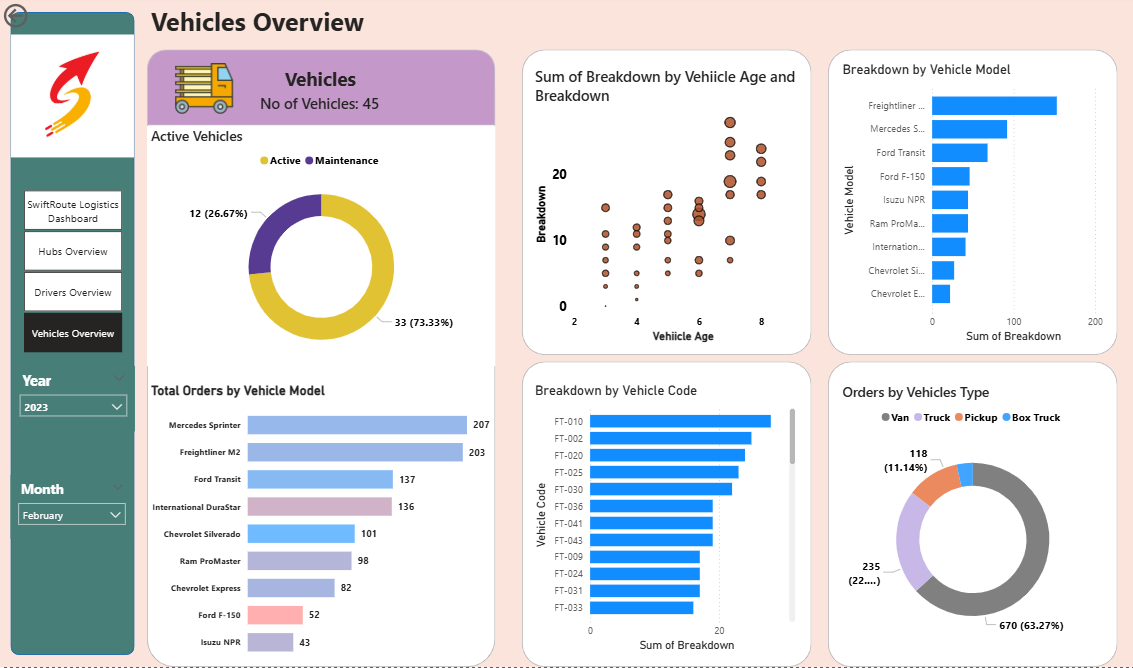

Layout of this report page (visuals, bound fields, positions):
{"tool":"powerbi","page":{"name":"Vehicles Overview","canvas":[1450,850],"ordinal":3},"visuals":[{"type":"shape","box":[13.6,15.3,158.1,819.4],"z":0},{"type":"textbox","box":[187,0,504.9,62.9],"z":1000},{"type":"slicer","fields":{"Values":["Date Table.Year"]},"box":[15.3,465.8,156.4,83.3],"z":2000},{"type":"slicer","fields":{"Values":["Date Table.Month"]},"box":[13.6,606.9,156.4,79.9],"z":3000},{"type":"image","box":[13.3,43.3,158.3,156.7],"z":4000},{"type":"shape","box":[664.7,62.9,368.9,389.3],"z":5000},{"type":"actionButton","box":[0,0,100,40],"z":6000},{"type":"shape","box":[187,78.2,443.7,771.8],"z":7000},{"type":"shape","box":[187,62.9,443.7,96.9],"z":8000},{"type":"cardVisual","fields":{"Data":["Vehicles.No of Vehicles"]},"box":[265.2,98.6,283.9,61.2],"z":9000},{"type":"textbox","box":[285.6,78.2,246.5,44.2],"z":10000},{"type":"donutChart","title":"Active Vehicles","fields":{"Category":["Vehicles.Vehicle Status"],"Y":["CountNonNull(Vehicles.Vehicle ID)"]},"box":[187,159.8,443.7,306],"z":11000},{"type":"barChart","fields":{"Y":["Orders.Total Orders"],"Category":["Vehicles.Vehicle Model"]},"box":[187,487.9,443.7,362.1],"z":12000},{"type":"scatterChart","fields":{"X":["Vehicles.Vehiicle Age"],"Y":["Vehicles.Breakdown"],"Size":["Sum(Vehicles.Breakdown)1"]},"box":[676.6,83.3,341.7,357],"z":13000},{"type":"shape","box":[1055.7,62.9,368.9,389.3],"z":14000},{"type":"shape","box":[664.7,460.7,368.9,389.3],"z":15000},{"type":"shape","box":[1055.7,460.7,368.9,389.3],"z":16000},{"type":"barChart","title":"Breakdown by Vehicle Code","fields":{"Category":["Vehicles.Vehicle Code"],"Y":["Sum(Vehicles.Breakdown)"]},"box":[676.6,487.9,341.7,346.8],"z":17000},{"type":"barChart","title":"Breakdown by Vehicle Model","fields":{"Y":["Sum(Vehicles.Breakdown)"],"Category":["Vehicles.Vehicle Model"]},"box":[1069.3,78.2,341.7,362.1],"z":18000},{"type":"donutChart","title":"Orders by Vehicles Type","fields":{"Category":["Orders.Vehicle Type"],"Y":["Orders.Total Orders"]},"box":[1069.3,487.9,341.7,346.8],"z":19000},{"type":"pageNavigator","box":[30.6,243.1,125.8,209.1],"z":20000},{"type":"image","box":[221,64.6,76.5,95.2],"z":21000}]}

Visuals, with their boxes on the page's 1450x850 design canvas (x1, y1, x2, y2). These are canvas units, not pixel positions in the 1133x668 screenshot, which may show the page scaled, cropped or inside an application window:
shape: l=14, t=15, r=172, b=835
textbox: l=187, t=0, r=692, b=63
slicer - Date Table.Year: l=15, t=466, r=172, b=549
slicer - Date Table.Month: l=14, t=607, r=170, b=687
image: l=13, t=43, r=172, b=200
shape: l=665, t=63, r=1034, b=452
actionButton: l=0, t=0, r=100, b=40
shape: l=187, t=78, r=631, b=850
shape: l=187, t=63, r=631, b=160
cardVisual - Vehicles.No of Vehicles: l=265, t=99, r=549, b=160
textbox: l=286, t=78, r=532, b=122
"Active Vehicles" donutChart: l=187, t=160, r=631, b=466
barChart - Orders.Total Orders x Vehicles.Vehicle Model: l=187, t=488, r=631, b=850
scatterChart - Vehicles.Vehiicle Age x Vehicles.Breakdown: l=677, t=83, r=1018, b=440
shape: l=1056, t=63, r=1425, b=452
shape: l=665, t=461, r=1034, b=850
shape: l=1056, t=461, r=1425, b=850
"Breakdown by Vehicle Code" barChart: l=677, t=488, r=1018, b=835
"Breakdown by Vehicle Model" barChart: l=1069, t=78, r=1411, b=440
"Orders by Vehicles Type" donutChart: l=1069, t=488, r=1411, b=835
pageNavigator: l=31, t=243, r=156, b=452
image: l=221, t=65, r=298, b=160
